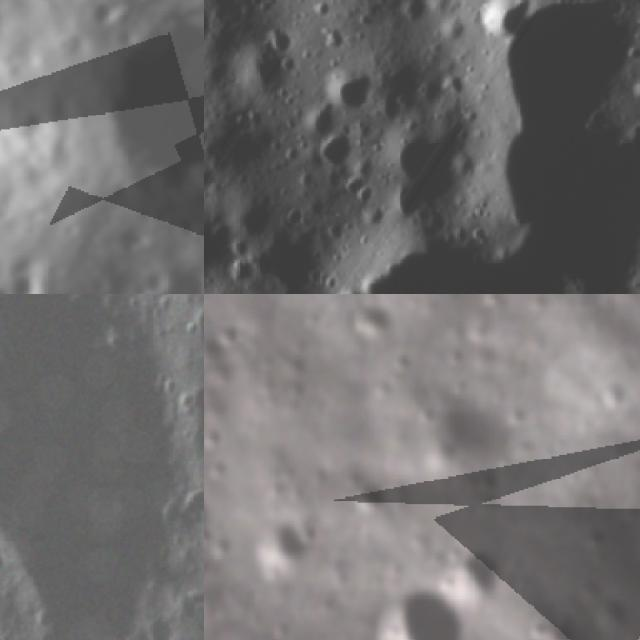crater: (0, 294, 198, 640), (365, 94, 507, 241), (355, 569, 479, 640), (244, 512, 320, 582), (438, 550, 513, 612), (204, 187, 247, 294), (314, 47, 380, 115), (337, 464, 397, 527), (300, 115, 361, 175), (465, 0, 539, 45), (342, 294, 396, 354), (592, 378, 638, 420), (541, 610, 587, 640), (204, 0, 228, 52), (204, 472, 217, 541)
